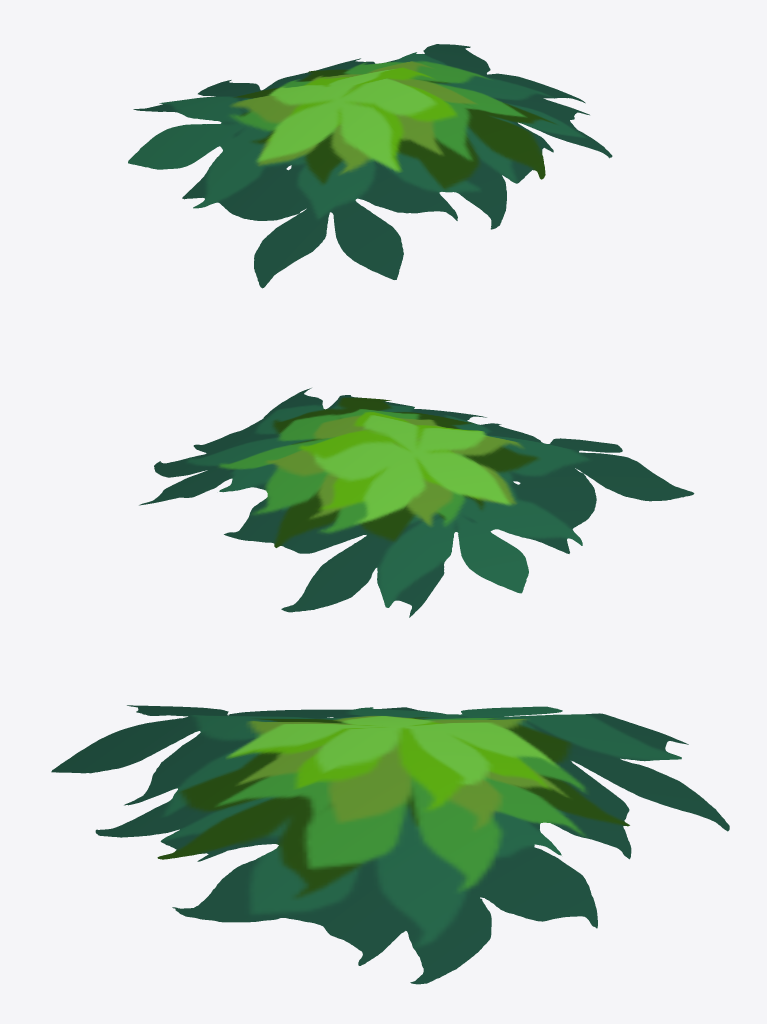
File: tree_plants_003.fbx
3 views of the same model, one above another, from view 1: azimuth 30°, elevation 25°; view 2: azimuth 150°, elevation 25°; view 3: azimuth 270°, elevation 25° (orthographic). The views are drawn at different scales.
Visible parts, largest first — view 1: tree_plants_003; view 2: tree_plants_003; view 3: tree_plants_003.
Part boxes in pixels (x1,y1,x2,y2): tree_plants_003: [128, 44, 612, 288]; tree_plants_003: [139, 388, 694, 617]; tree_plants_003: [51, 705, 729, 984].
Size of the model in its own units: 4.16 by 0.7814 by 4.16.
